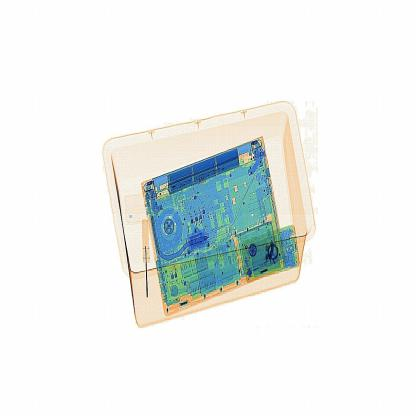wrench: (139, 217, 155, 303)
